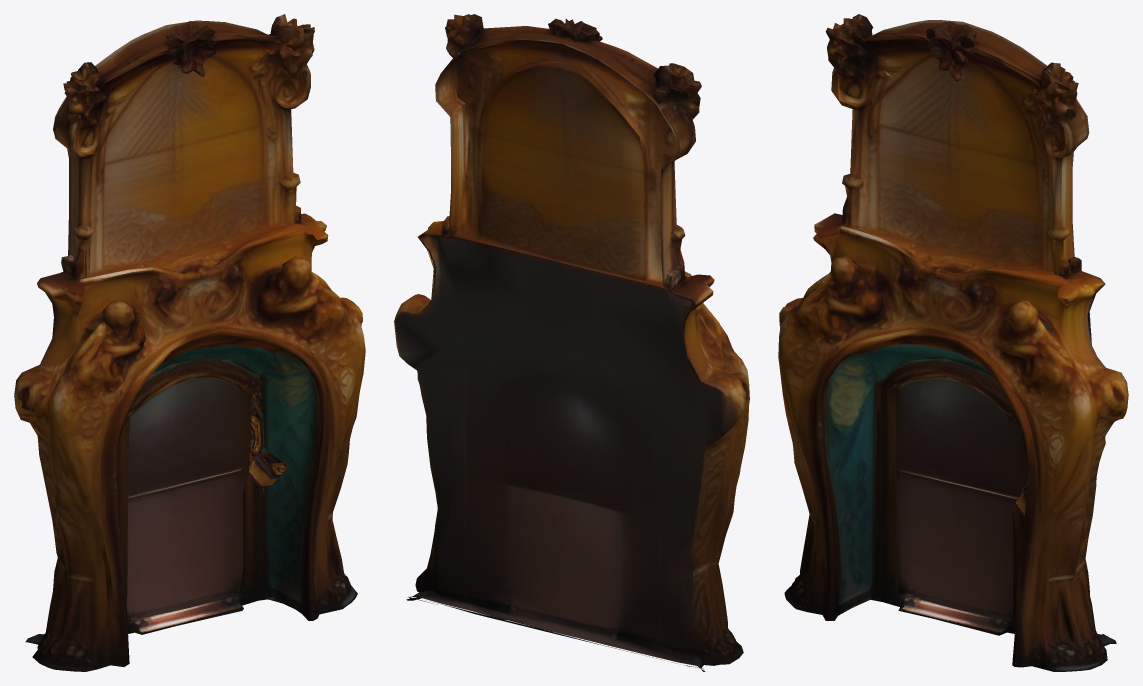
Rendered from fireplace-83152.glb.
3 renders of one model, left to right at view 1: azimuth 30°, elevation 25°; view 2: azimuth 150°, elevation 25°; view 3: azimuth 330°, elevation 25°, orthographic.
Parts seen in each view (by area): view 1: Mesh; view 2: Mesh; view 3: Mesh.
Part boxes in pixels (x1=…): Mesh: x1=14, y1=14, x2=365, y2=671; Mesh: x1=394, y1=14, x2=749, y2=671; Mesh: x1=778, y1=14, x2=1128, y2=671.
Bounding box in the file's own units: 2.11 × 3.5 × 0.508.
1 material, 1 textured.
